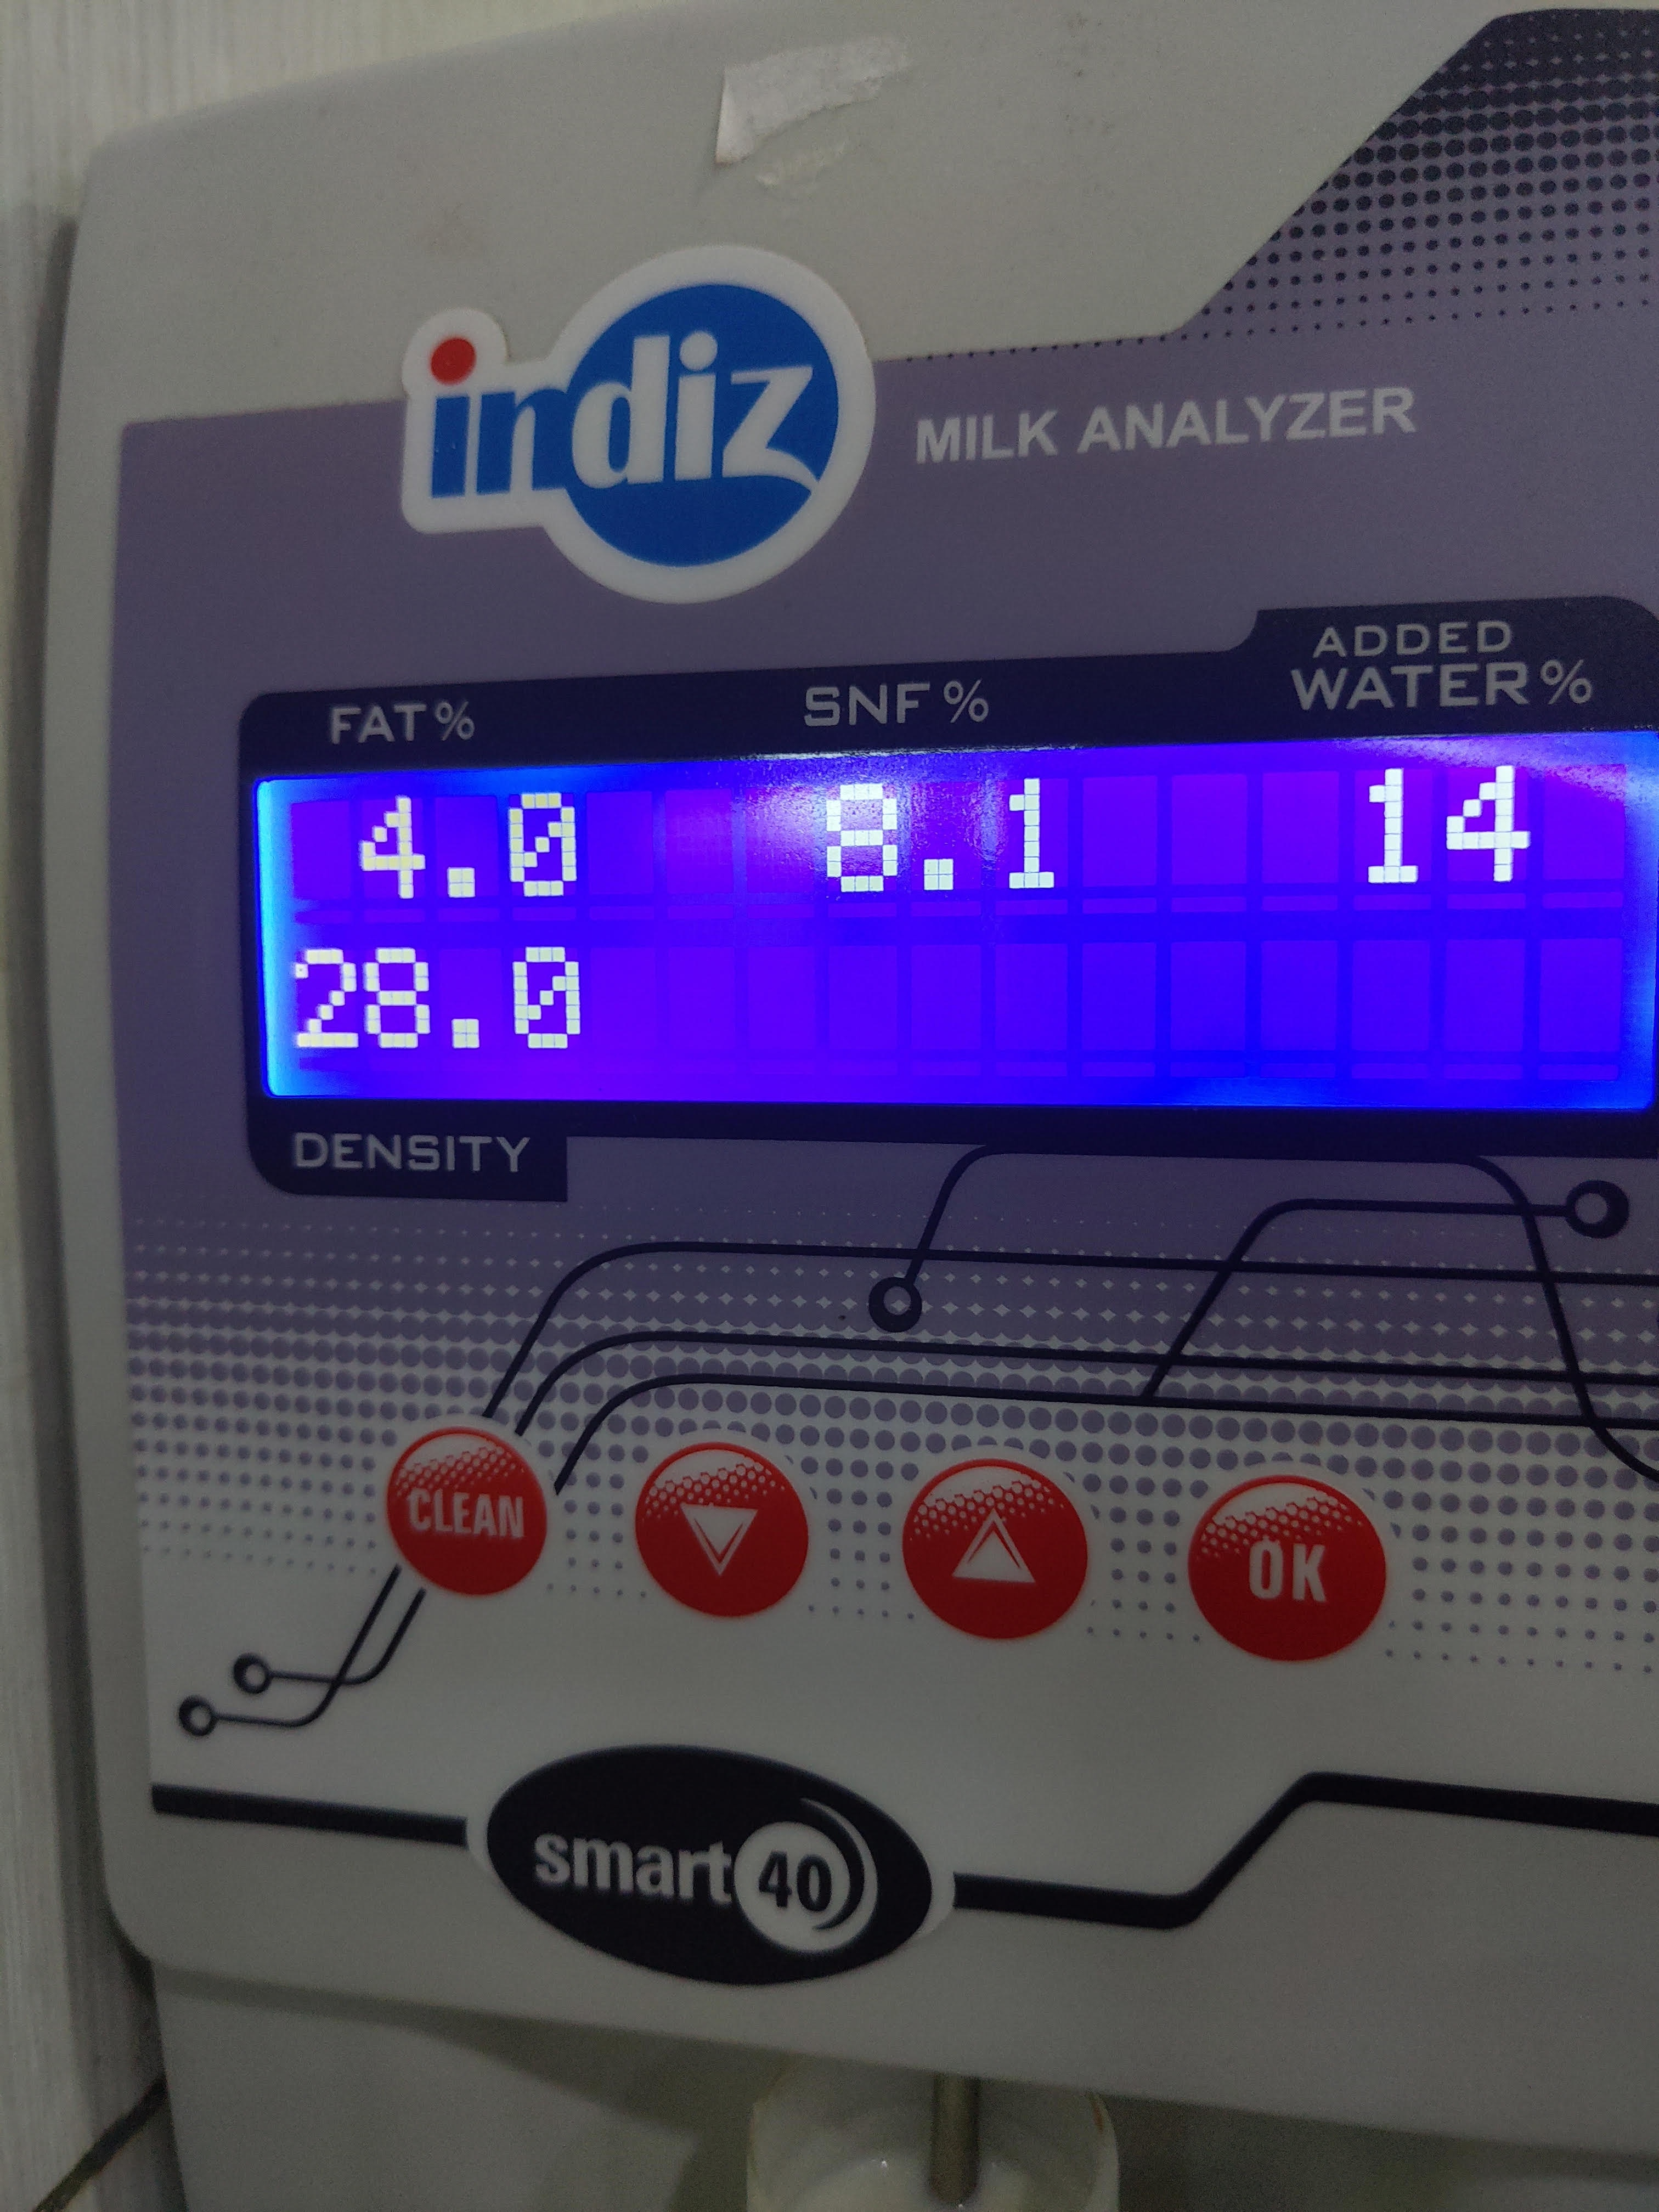lcd: (242, 725, 1659, 1123)
